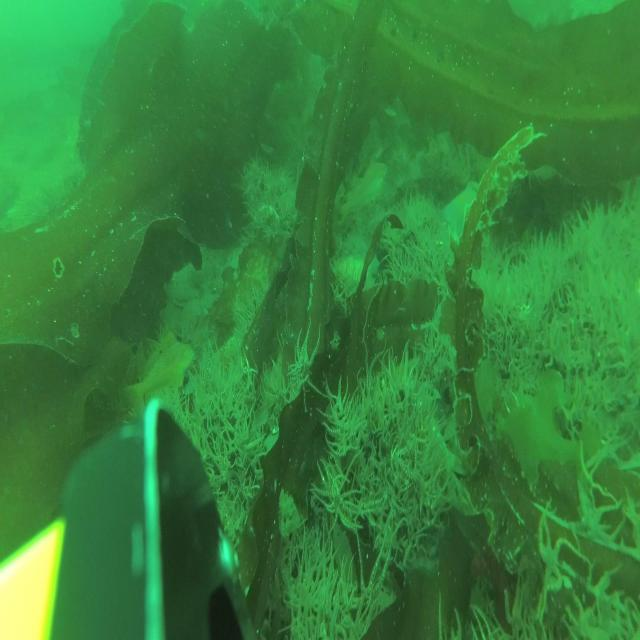starfish: (443, 180, 488, 237)
